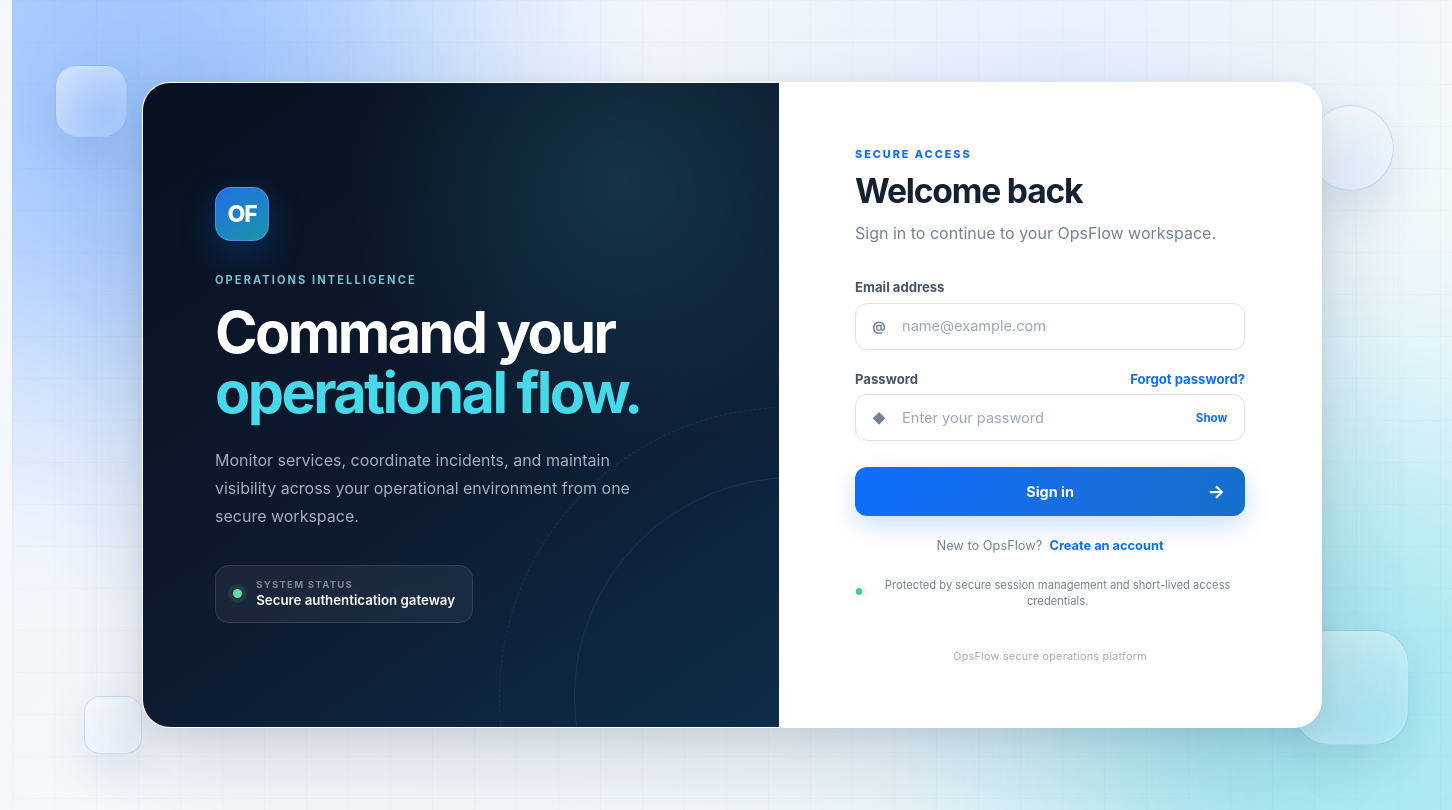
Test: LoginPage forgot-password navigation › navigates to the forgot-password route when the recovery link is selected
Click the link "Forgot password?" at coordinates (1188, 378), box top-left (1130, 370), bottom-right (1245, 386)
(page scrolled)
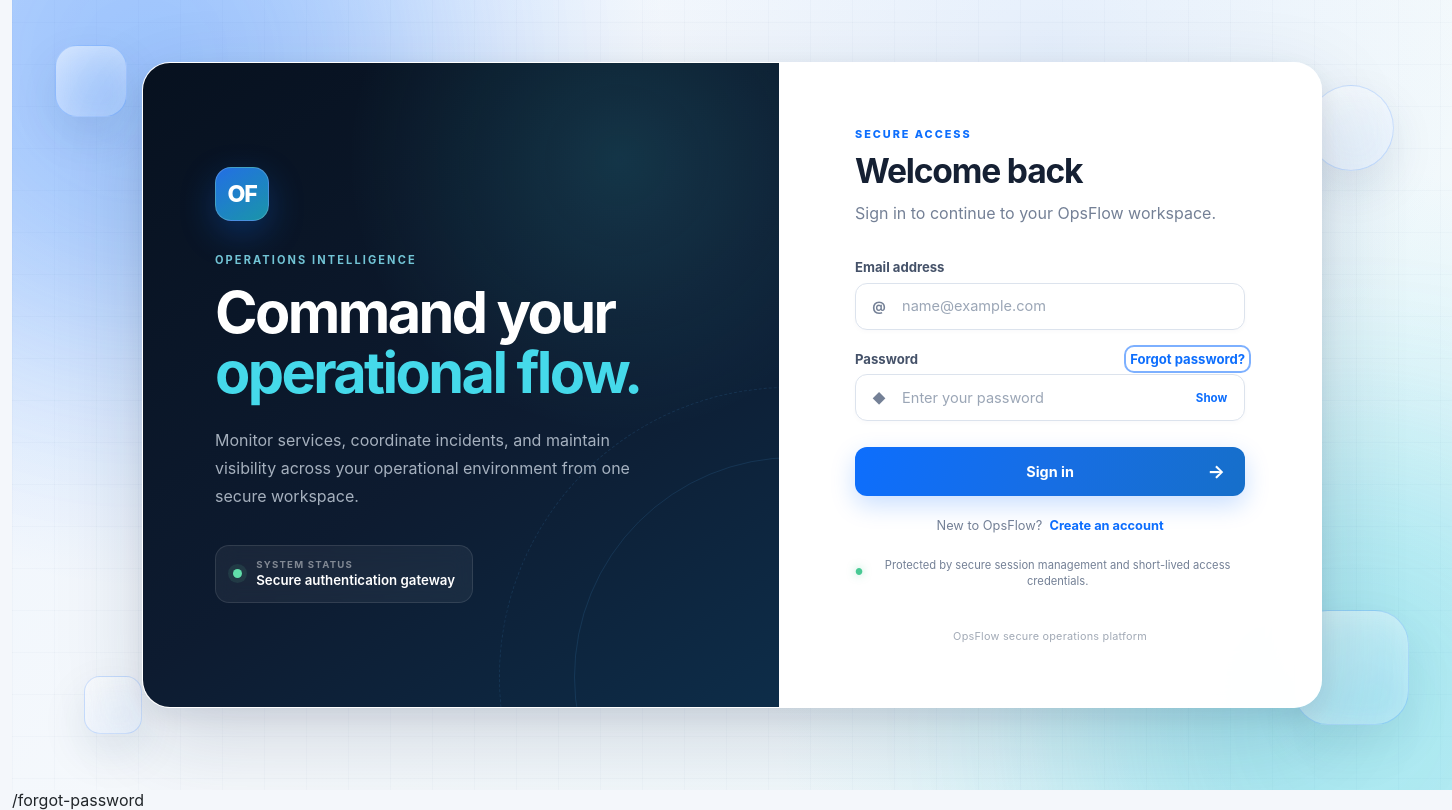
Check: the text with test id "current-location" reads "/forgot-password", box top-left (12, 790), bottom-right (144, 809)
